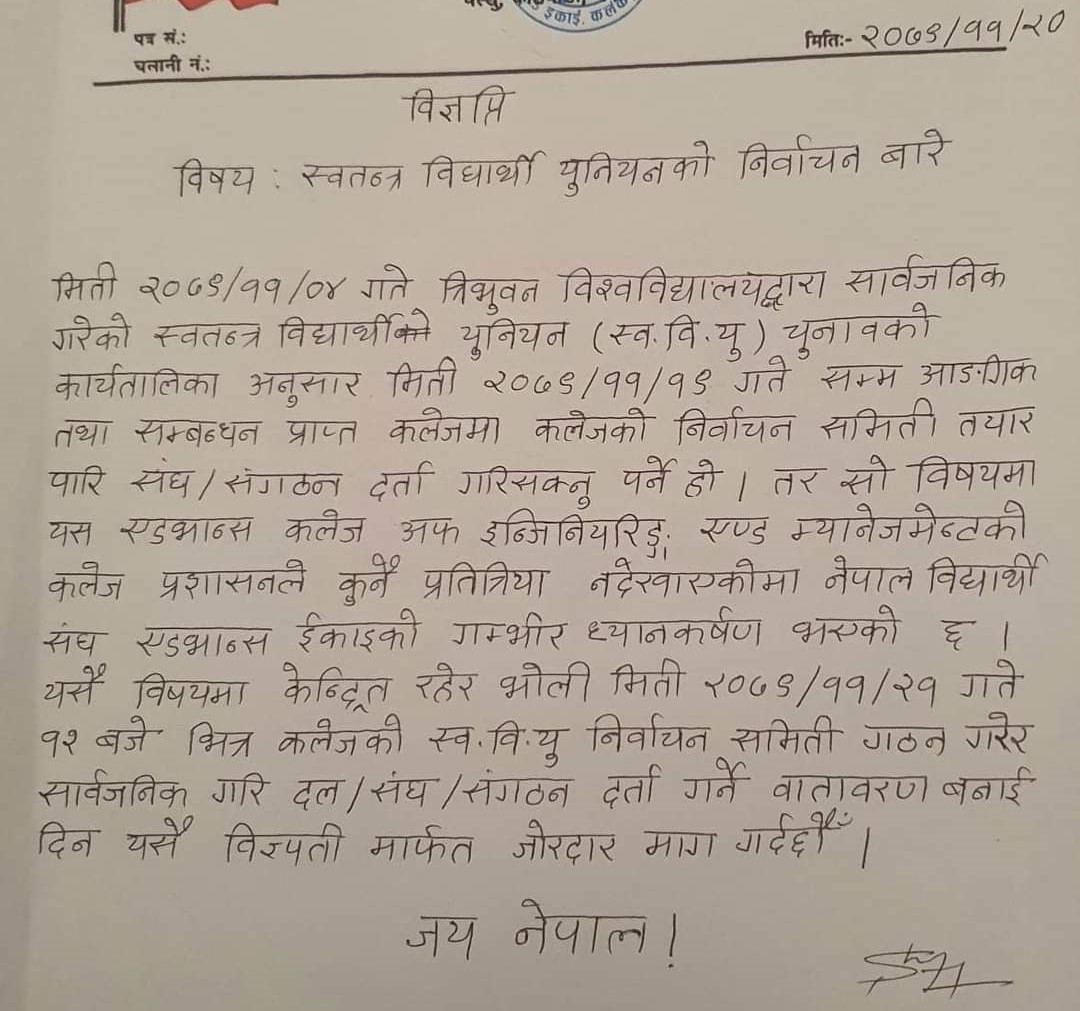text: (555, 261, 828, 311), (787, 499, 1032, 548), (587, 554, 804, 603), (555, 135, 714, 199), (701, 666, 942, 708), (582, 599, 765, 652), (510, 896, 650, 964), (477, 505, 671, 553), (135, 266, 347, 308), (481, 363, 714, 400), (782, 303, 933, 358), (862, 7, 1071, 45), (608, 308, 749, 363), (841, 249, 1013, 294), (53, 358, 223, 402), (426, 717, 564, 771), (32, 766, 192, 812), (156, 555, 310, 602), (449, 464, 597, 508), (421, 557, 551, 607), (222, 818, 344, 870), (736, 131, 862, 181), (274, 662, 394, 714), (817, 394, 940, 444), (273, 717, 409, 762), (731, 812, 853, 862), (292, 607, 418, 655), (509, 816, 621, 870), (587, 712, 714, 759), (927, 552, 1046, 602), (768, 771, 931, 807), (130, 622, 276, 662), (386, 405, 508, 452), (243, 365, 367, 410), (441, 264, 546, 317), (532, 402, 650, 449), (400, 80, 515, 128), (449, 611, 569, 657), (422, 149, 547, 193), (367, 821, 478, 870), (788, 602, 904, 648), (133, 666, 249, 712), (910, 454, 1040, 495), (915, 349, 1041, 391), (676, 403, 799, 446), (221, 463, 347, 504), (272, 312, 401, 352), (460, 316, 569, 363), (119, 512, 256, 549), (131, 412, 267, 449), (727, 714, 841, 758), (460, 768, 576, 811), (494, 659, 596, 707), (299, 158, 405, 199), (176, 155, 267, 202), (147, 318, 267, 353), (937, 764, 1032, 808), (856, 720, 954, 761), (400, 913, 482, 962), (335, 552, 405, 609), (49, 309, 135, 355), (45, 557, 126, 605), (182, 712, 258, 763), (610, 654, 687, 703), (962, 707, 1033, 759), (822, 557, 915, 596), (282, 507, 368, 549), (879, 127, 954, 175), (121, 813, 194, 861), (411, 656, 477, 708), (50, 257, 123, 304), (600, 762, 665, 814), (955, 402, 1041, 441), (365, 458, 438, 503), (819, 358, 900, 398), (681, 759, 746, 808), (390, 354, 459, 400), (956, 655, 1023, 702), (90, 709, 155, 757), (128, 455, 194, 502), (36, 664, 106, 708), (641, 826, 719, 864), (206, 764, 269, 811), (281, 416, 363, 452), (33, 818, 99, 862), (617, 452, 676, 500), (697, 512, 774, 548), (369, 768, 436, 808), (46, 459, 108, 502), (731, 355, 791, 398), (836, 452, 890, 498), (358, 261, 414, 305), (40, 620, 101, 659), (397, 514, 462, 549), (50, 416, 113, 452), (768, 462, 826, 499), (676, 452, 719, 500), (291, 775, 344, 813), (36, 720, 82, 758), (45, 516, 96, 550), (938, 614, 972, 649)
